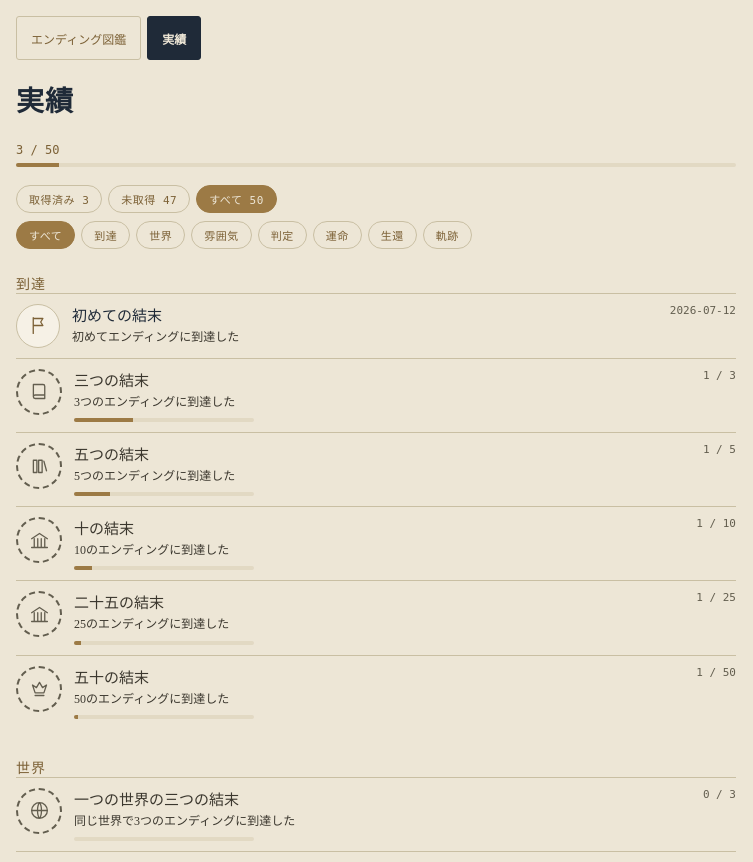
Test: AchievementList › filters down to the earned achievements
Click the button "取得済み 3" at (59, 199), box [16,185,102,213]
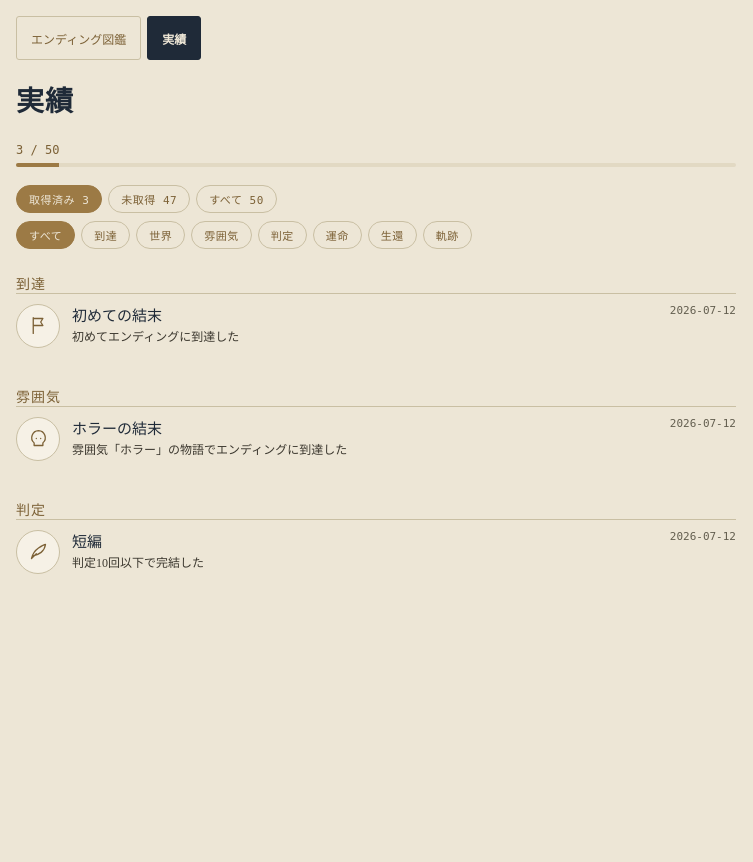
Expected: the text "初めての結末" is shown, [72,309,162,326]
Now the text "五十の結末" is gone
